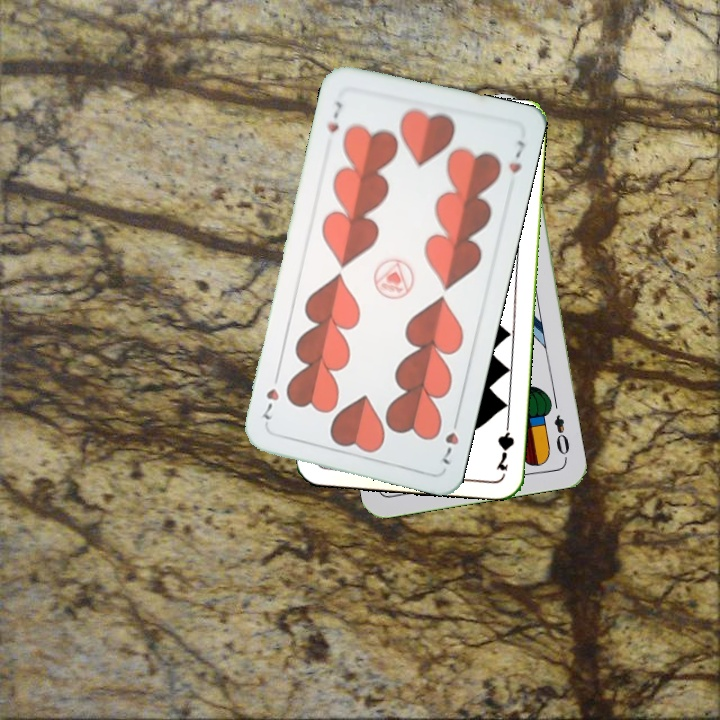EO: (550, 410, 572, 457)
G7: (492, 414, 517, 473)
H7: (437, 412, 462, 468), (323, 97, 345, 135)
